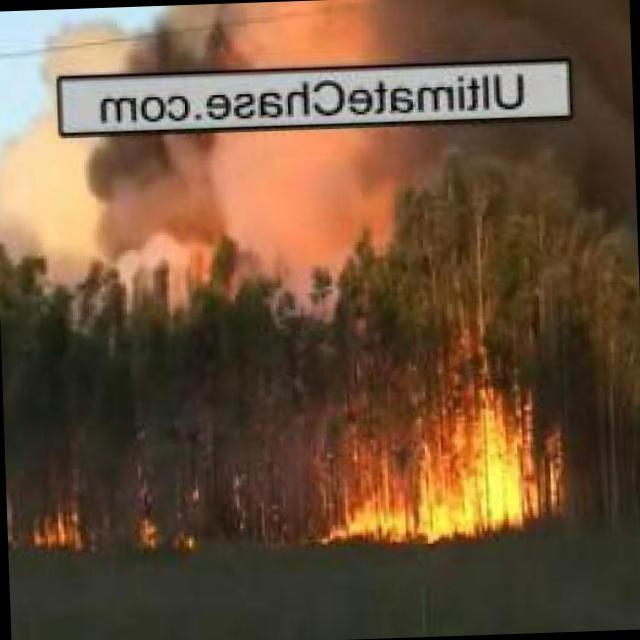Fire: (317, 410, 538, 545), (34, 504, 88, 554), (129, 518, 200, 556)
